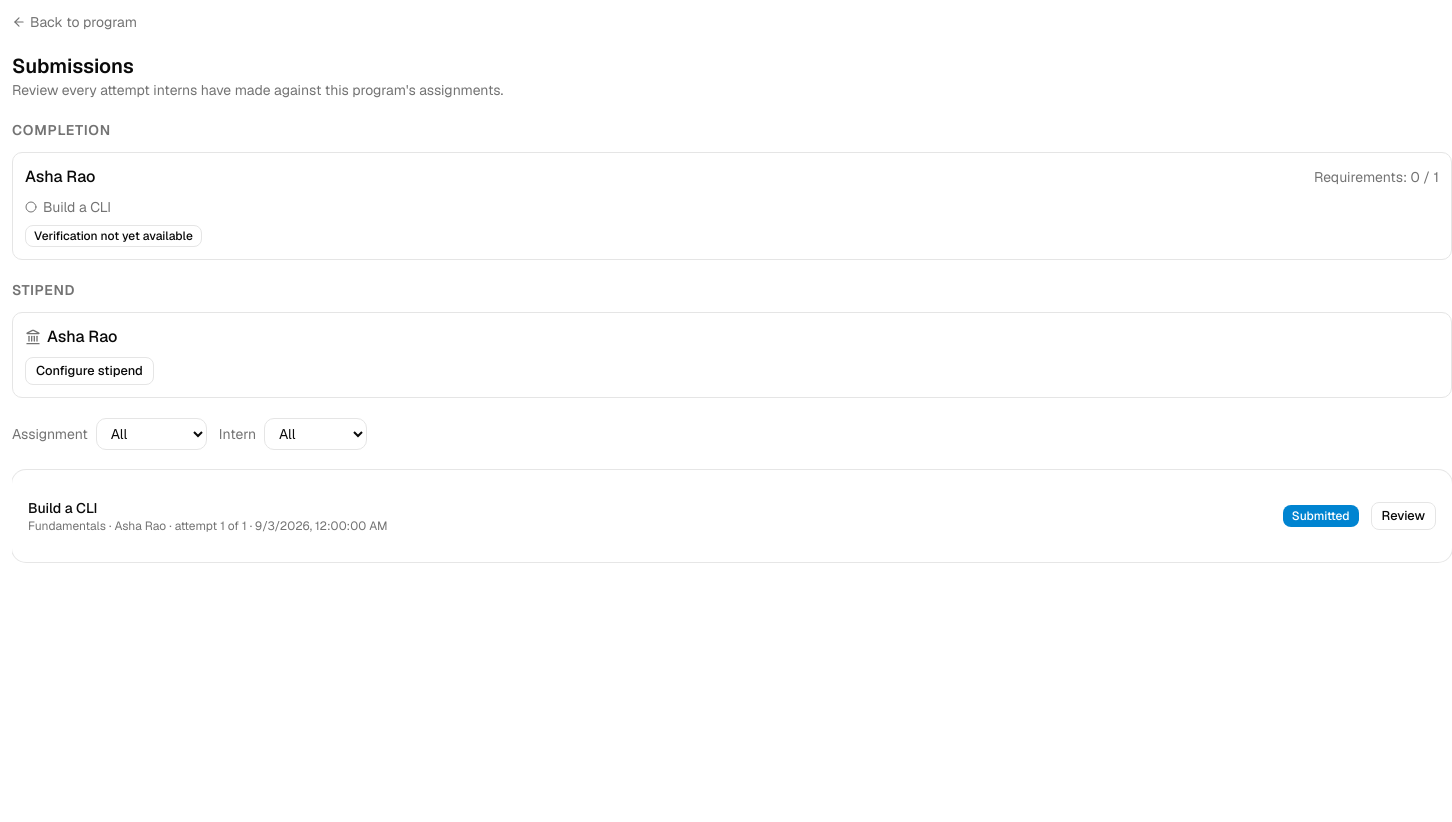
Scenario: ProgramSubmissionsView › shows Start review + Accept/Request revision/Reject for a SUBMITTED attempt
Click the button "Review".
click(1403, 516)  # box x1=1371 y1=502 x2=1436 y2=530
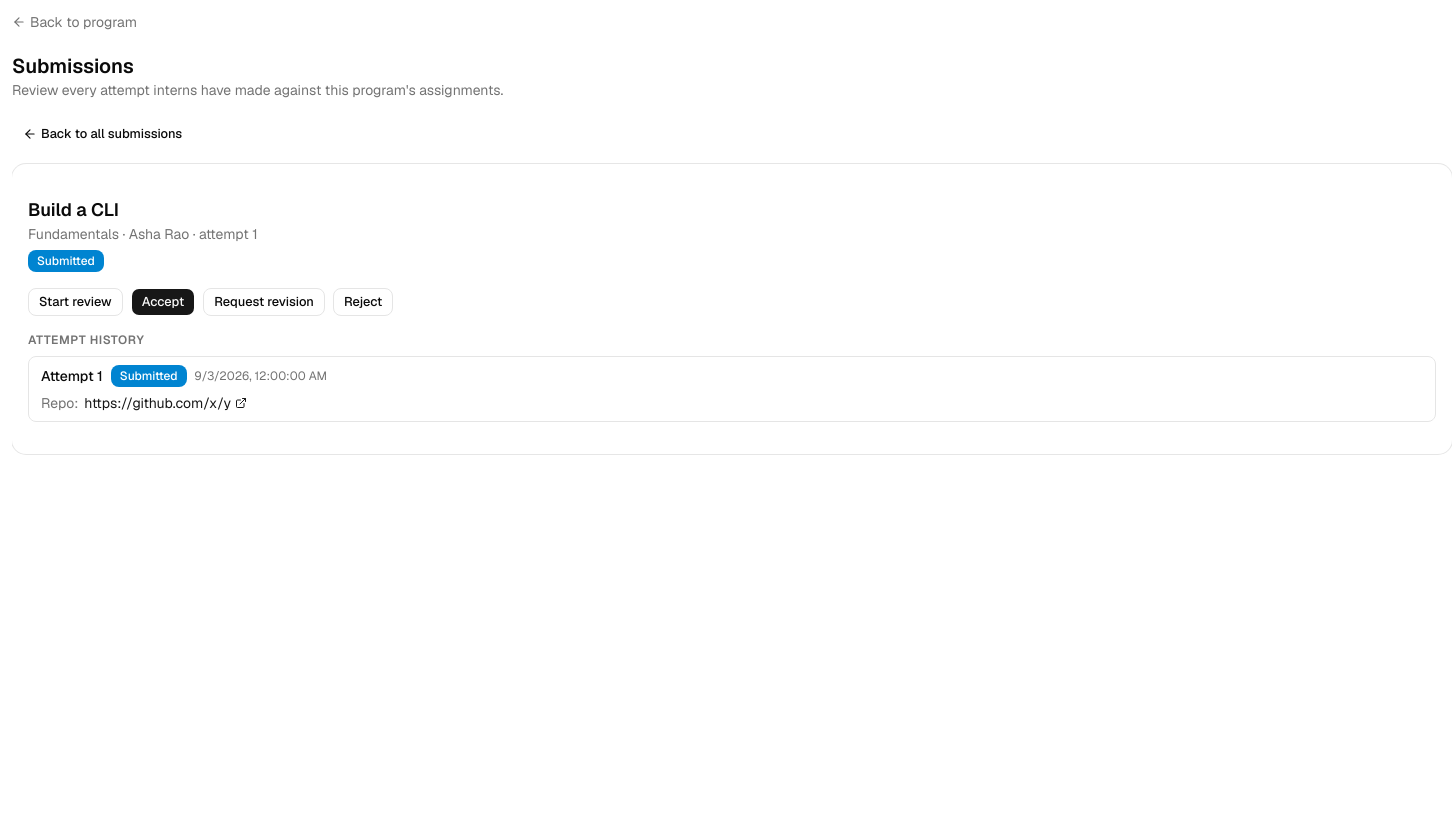
Now the button "Start review" is shown, box x1=28 y1=288 x2=123 y2=316
Now the button "Accept" is shown, box x1=131 y1=288 x2=195 y2=316
Now the button "Request revision" is shown, box x1=203 y1=288 x2=325 y2=316
